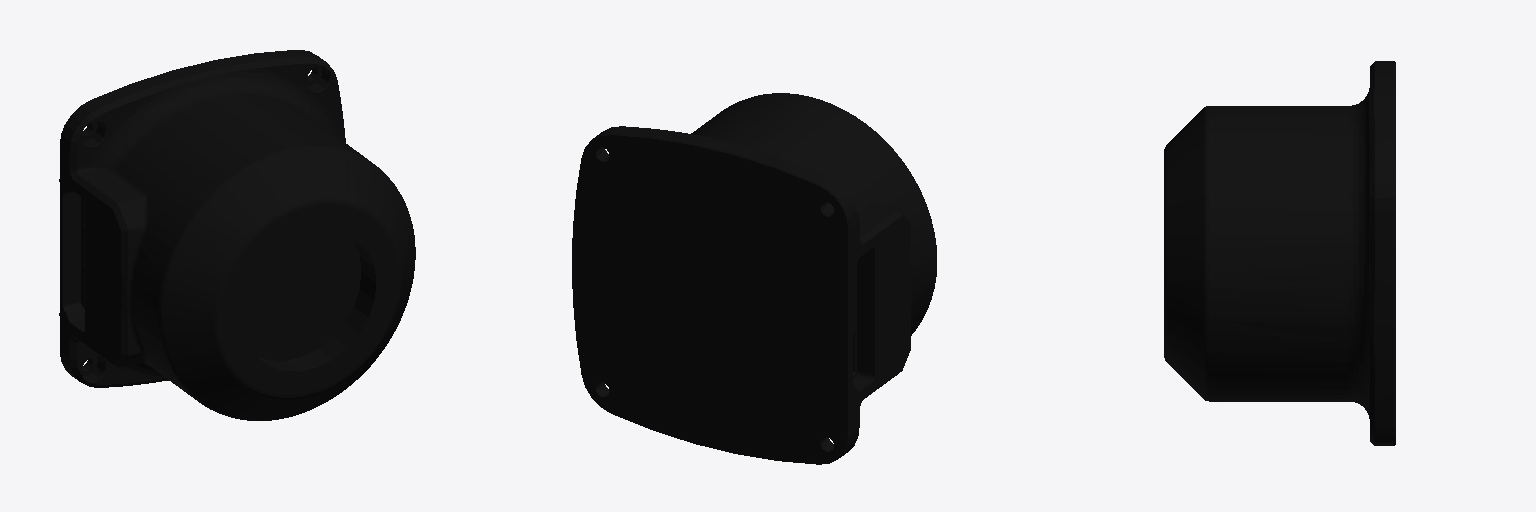
3 views of the same model, side by side, from view 1: azimuth 30°, elevation 25°; view 2: azimuth 150°, elevation 25°; view 3: azimuth 270°, elevation 25° (orthographic).
Visible parts, largest first — view 1: right_arm_base_link; view 2: right_arm_base_link; view 3: right_arm_base_link.
Boxes of the visible parts, <box> form: right_arm_base_link: <box>59,50,415,420</box>; right_arm_base_link: <box>572,93,936,464</box>; right_arm_base_link: <box>1164,61,1395,445</box>.
Bounding box in the file's own units: 0.1237 × 0.128 × 0.0892.